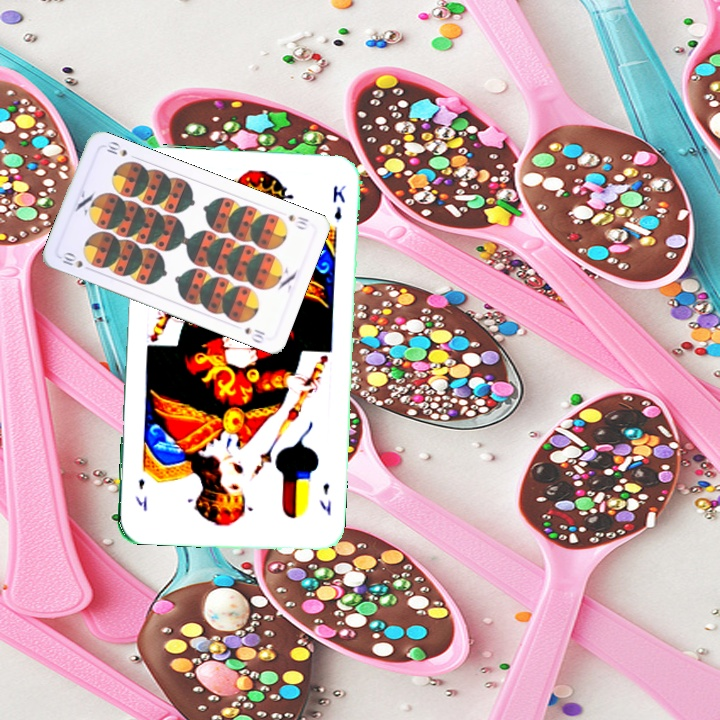EK: (316, 479, 334, 518)
S10: (58, 249, 95, 274), (284, 210, 312, 232)
